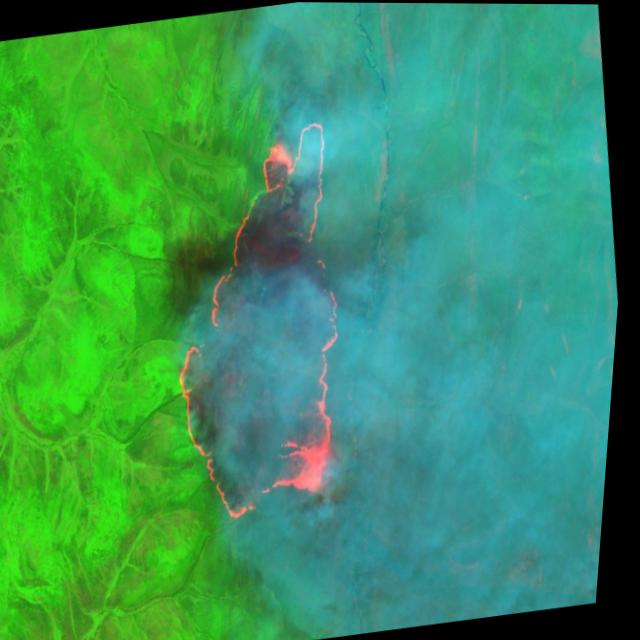fire: (140, 112, 389, 529)
